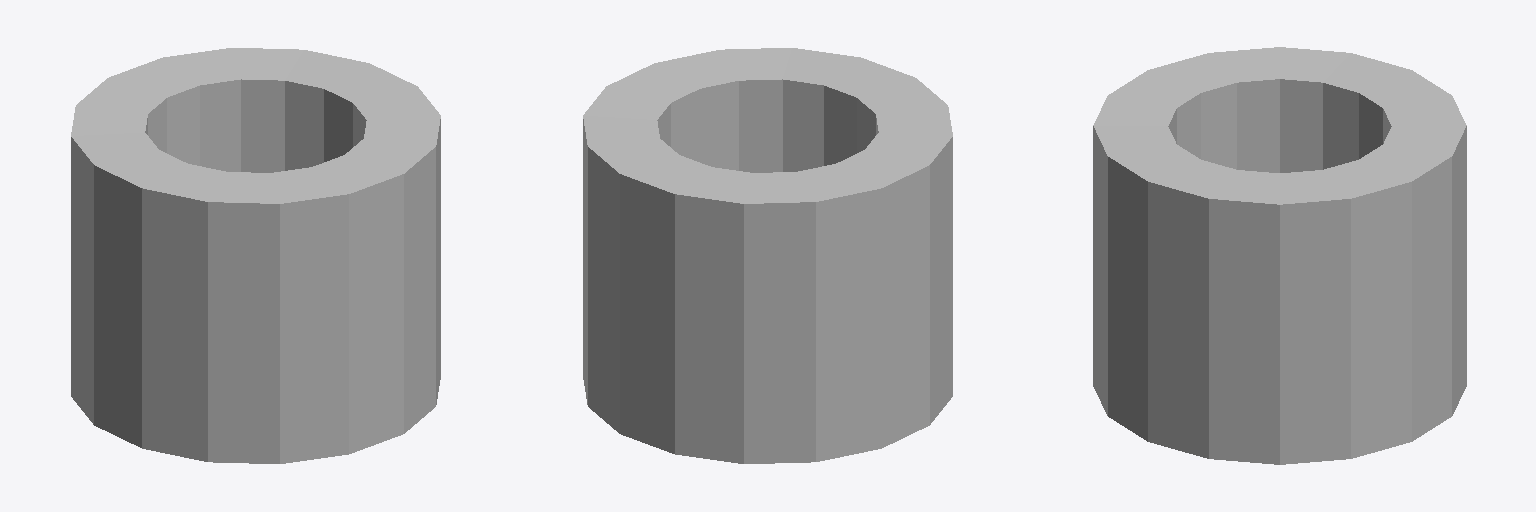
File: FlashTubeCollision.obj
3 views of the same model, side by side, from view 1: azimuth 30°, elevation 25°; view 2: azimuth 150°, elevation 25°; view 3: azimuth 270°, elevation 25° (orthographic).
Parts seen in each view (by area): view 1: Cylinder.001_Cylinder.004; view 2: Cylinder.001_Cylinder.004; view 3: Cylinder.001_Cylinder.004.
Part boxes in pixels (x1,y1,x2,y2): Cylinder.001_Cylinder.004: (71,48,440,463); Cylinder.001_Cylinder.004: (583,48,952,463); Cylinder.001_Cylinder.004: (1093,47,1466,464).
Bounding box in the file's own units: 13 × 10 × 13.